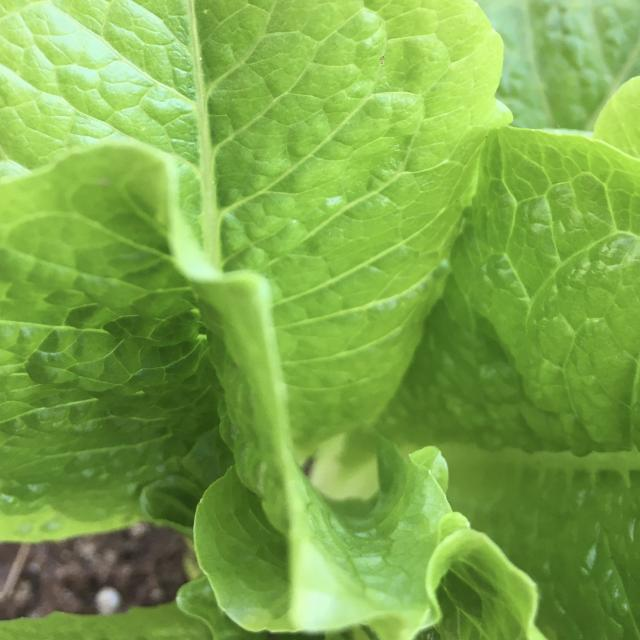Healthy Lettuce: (3, 2, 636, 636), (1, 137, 223, 539)
